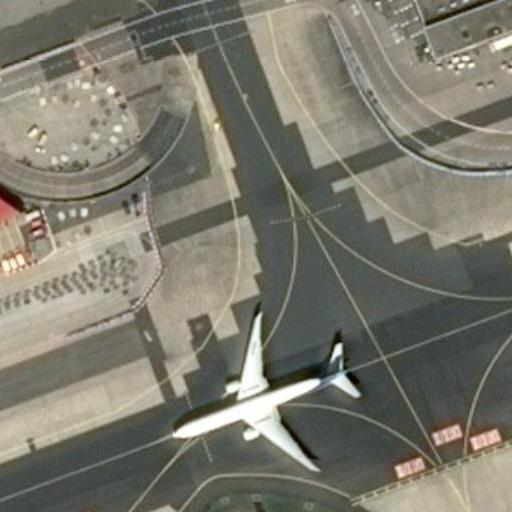Aircraft: (168, 312, 363, 471)
